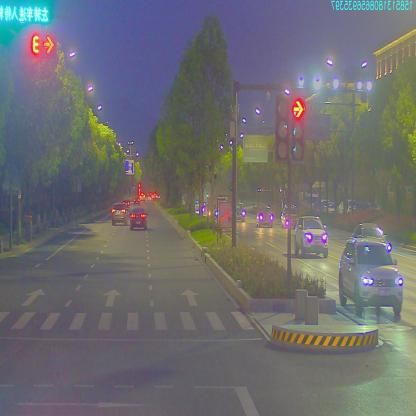traffic-light: (24, 31, 58, 54)
